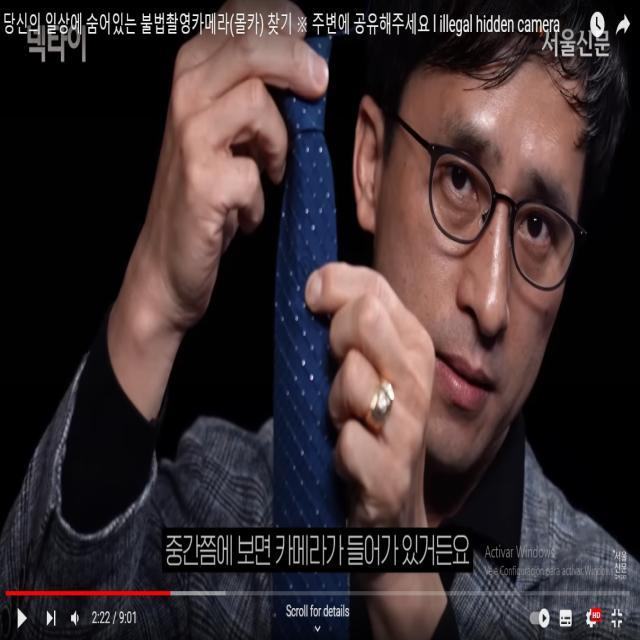hidden camera: (301, 262, 312, 280)
